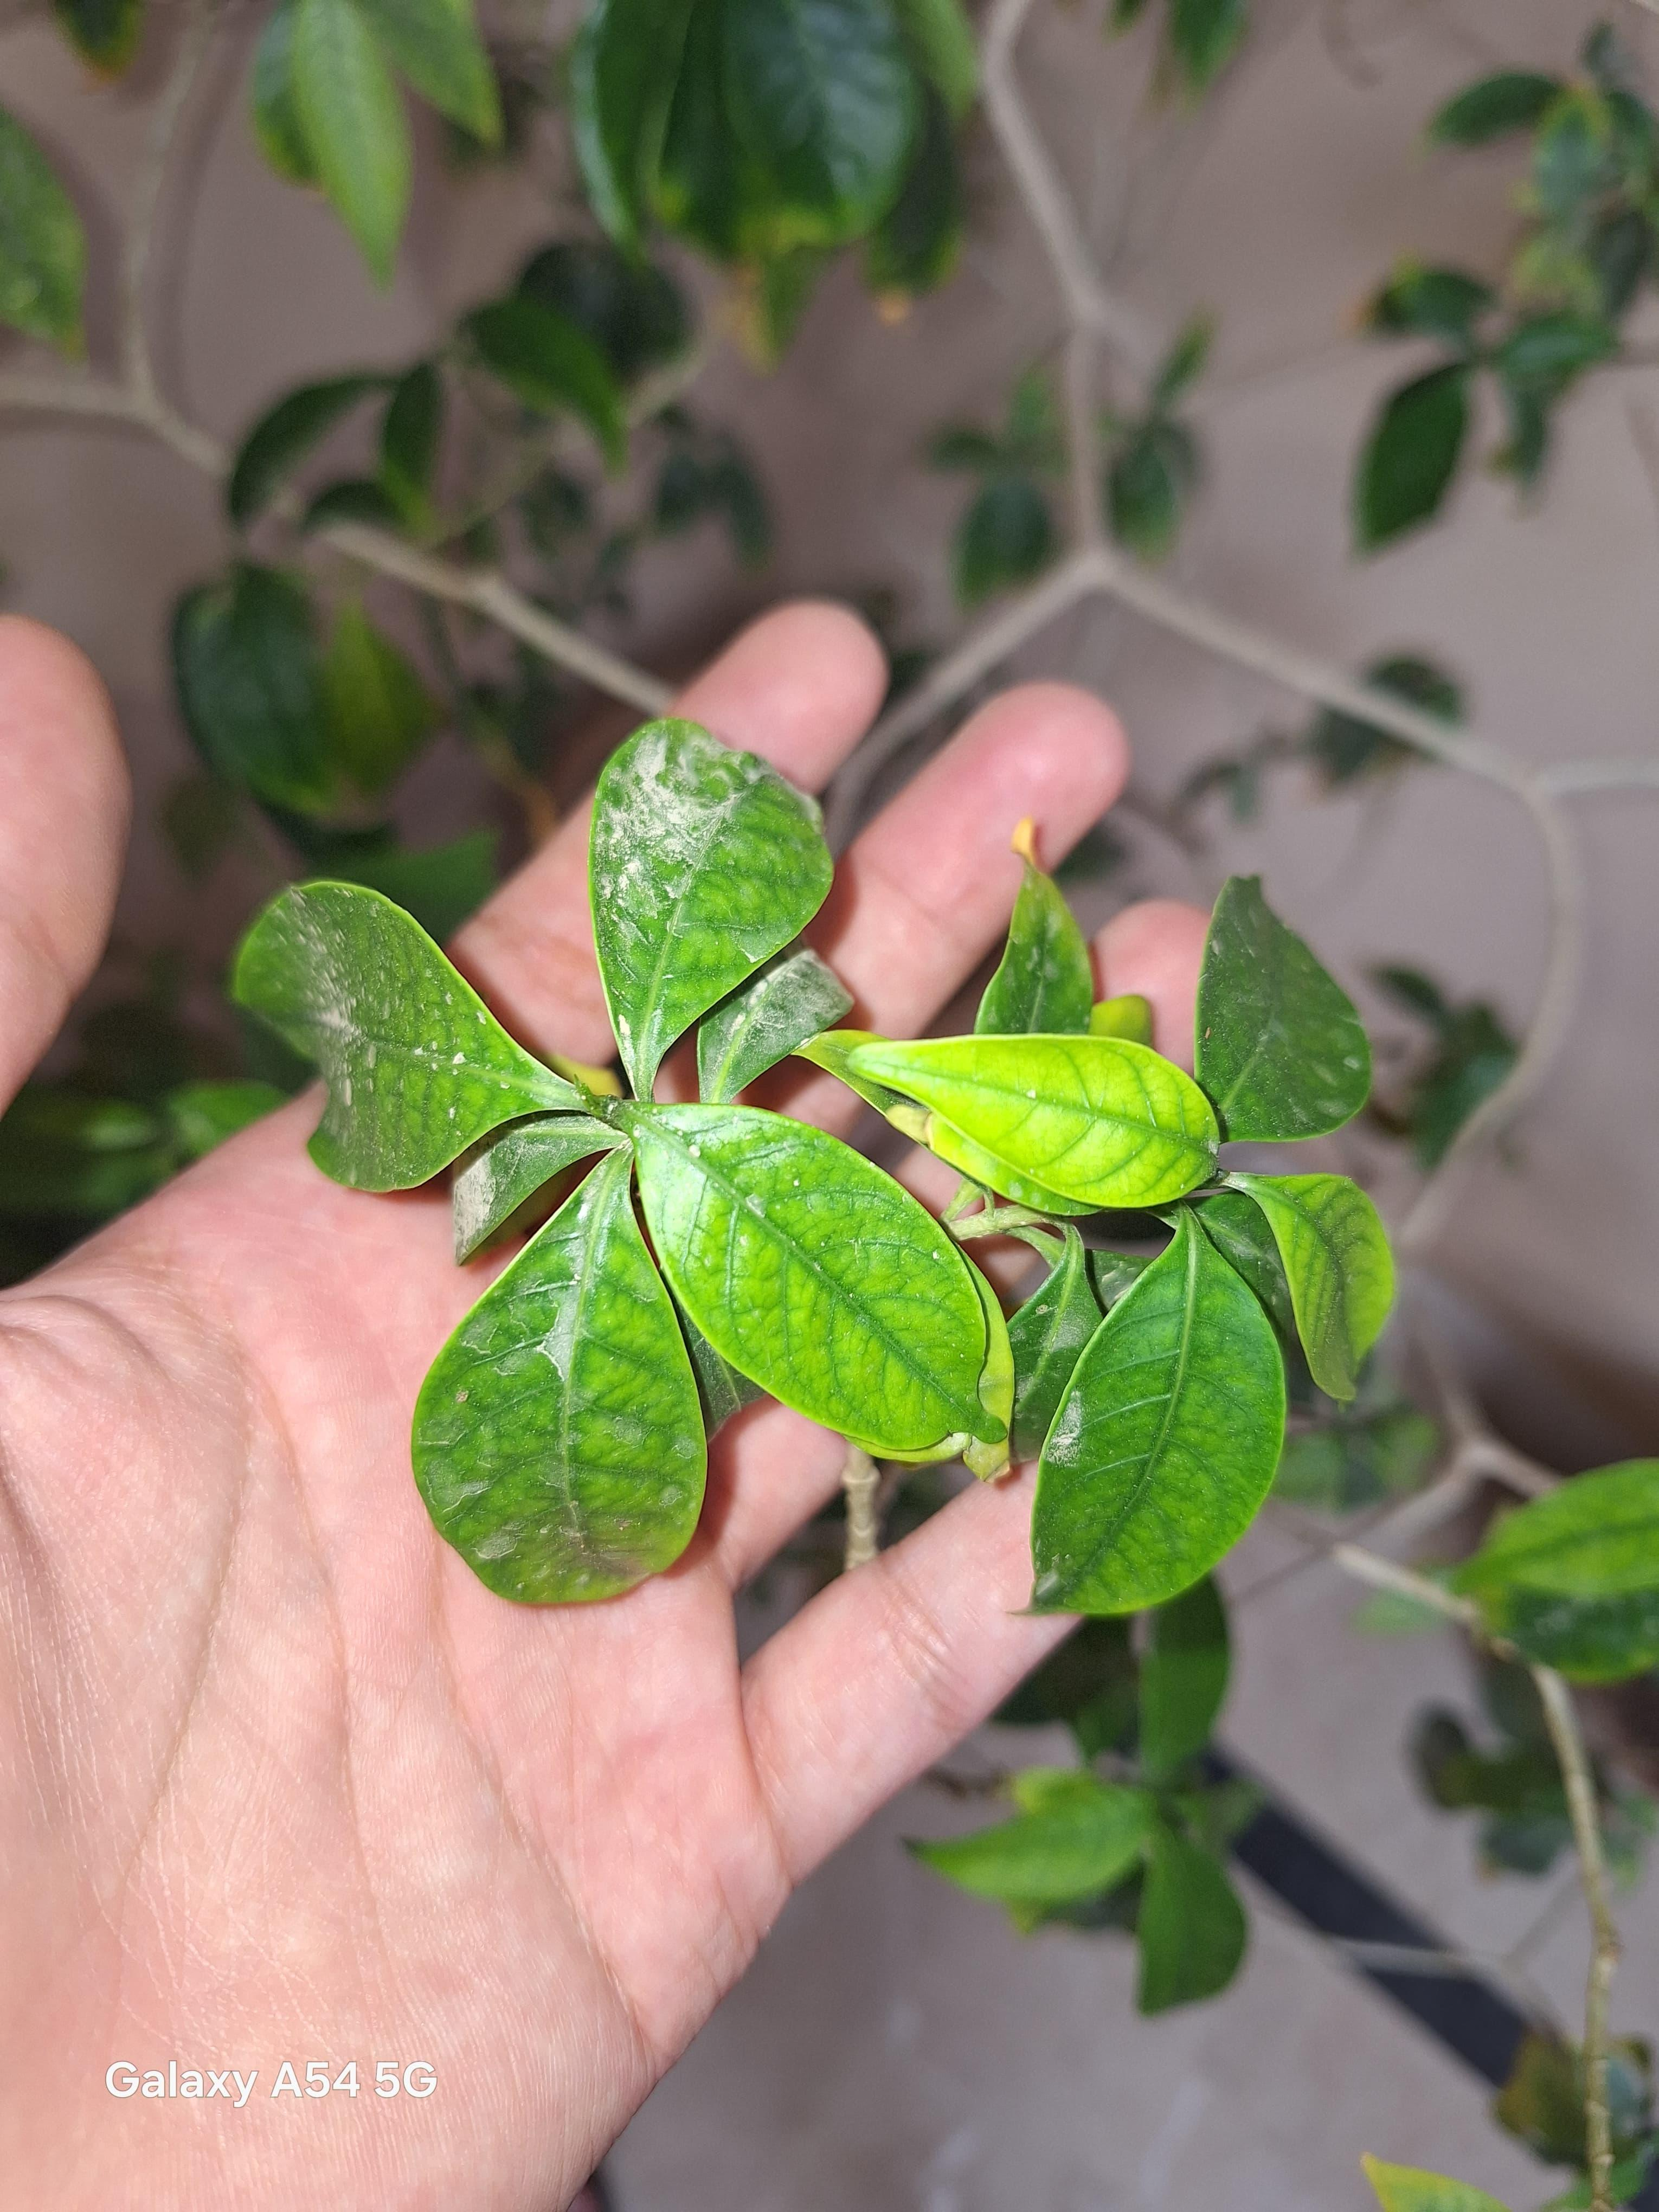non-mango: (179, 636, 1458, 1765)
